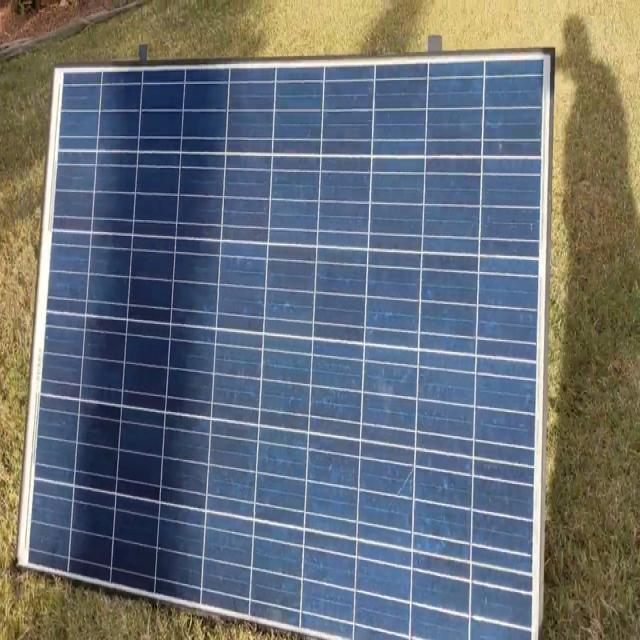Normal Solar Panel: (17, 51, 557, 640)
